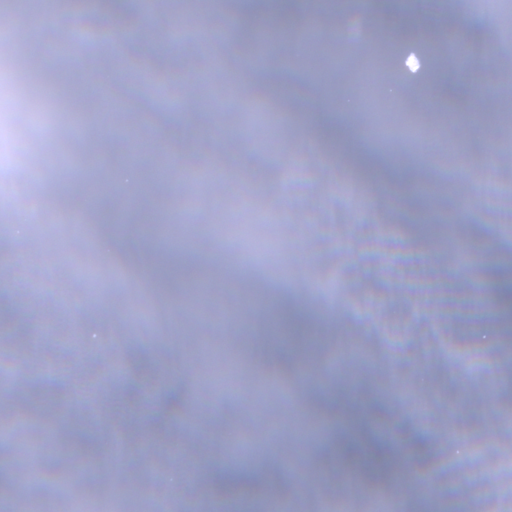Iceberg: (405, 53, 419, 72), (93, 334, 95, 336), (483, 335, 485, 337), (457, 450, 458, 452)
